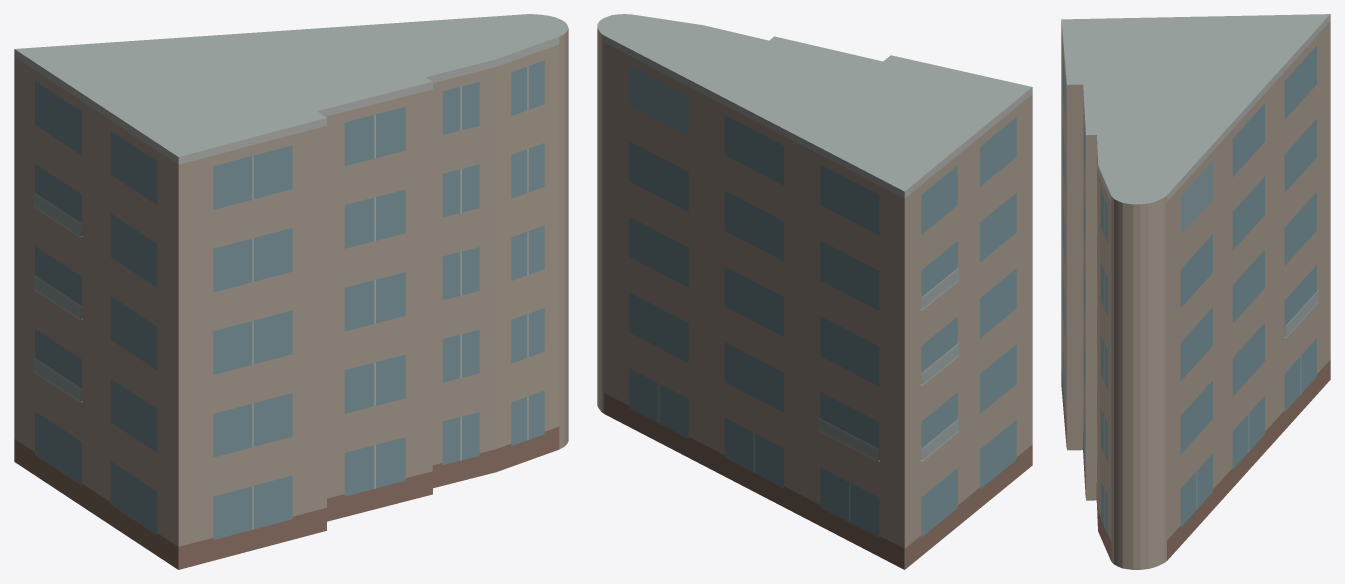
The model's file is survey-upis-33012306.glb.
The picture shows the model from 3 angles, left to right: view 1: azimuth 30°, elevation 25°; view 2: azimuth 150°, elevation 25°; view 3: azimuth 270°, elevation 25°; orthographic projection. The views are drawn at different scales.
Parts seen in each view (by area): view 1: survey-upis-33012306.tmp; view 2: survey-upis-33012306.tmp; view 3: survey-upis-33012306.tmp.
Boxes of the visible parts, x1,y1,x2,y2 form: survey-upis-33012306.tmp: [14, 14, 568, 569]; survey-upis-33012306.tmp: [597, 14, 1032, 569]; survey-upis-33012306.tmp: [1061, 14, 1330, 569].
Bounding box in the file's own units: 14.69 × 13.15 × 8.78.
